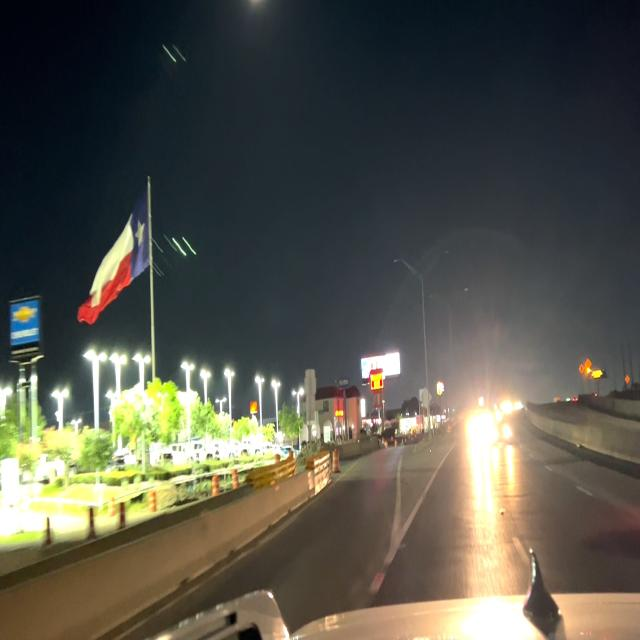back-of-sign: (305, 366, 318, 428)
